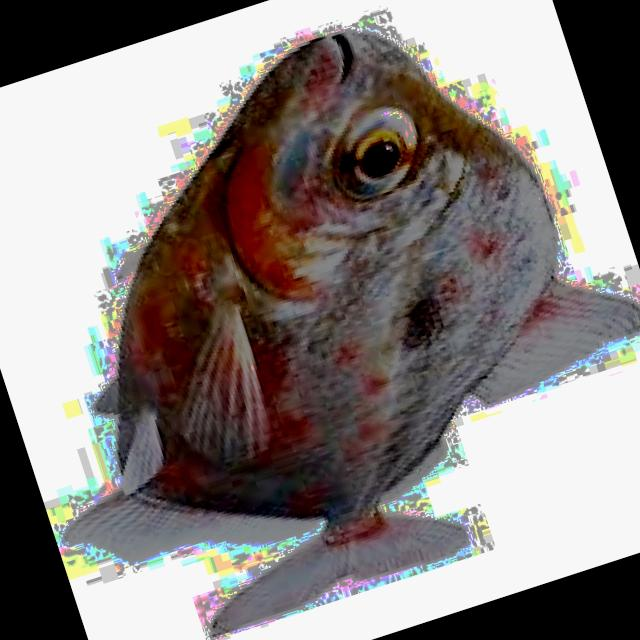Epizootic Ulcerative Syndrome -EUS-: (66, 31, 640, 634), (72, 31, 640, 633), (72, 31, 640, 633), (72, 31, 640, 633)
